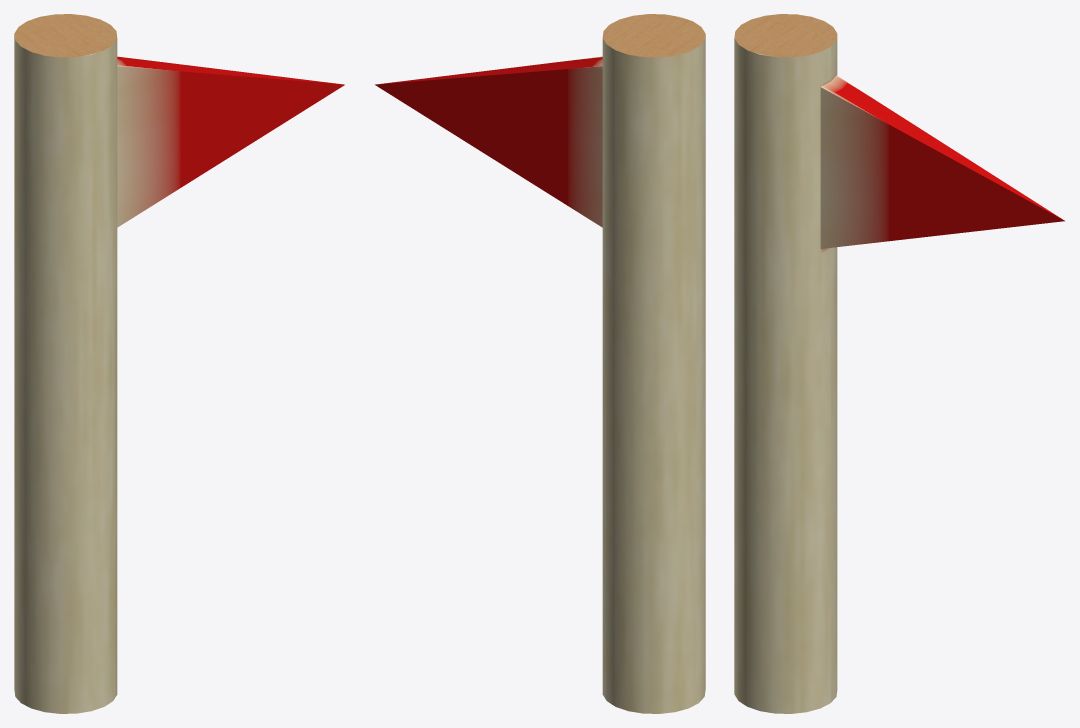
Rendered from Flag.fbx.
3 views of the same model, side by side, from view 1: azimuth 30°, elevation 25°; view 2: azimuth 150°, elevation 25°; view 3: azimuth 330°, elevation 25° (orthographic).
Visible parts, largest first — view 1: pCylinder1; view 2: pCylinder1; view 3: pCylinder1.
Boxes of the visible parts, x1,y1,x2,y2 form: pCylinder1: (14, 14, 344, 713); pCylinder1: (375, 14, 705, 713); pCylinder1: (734, 14, 1064, 713).
Bounding box in the file's own units: 7.24 × 14 × 2.
Materials: 1 (1 with a texture image).
